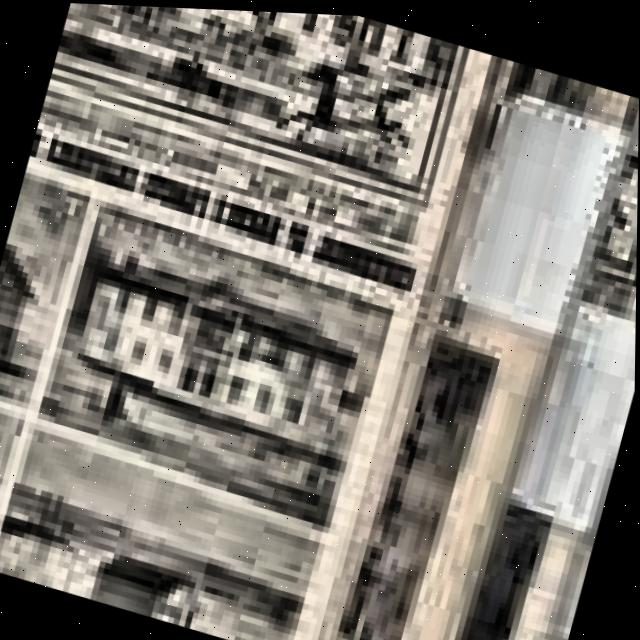paper: (0, 2, 639, 640), (0, 2, 487, 640)
